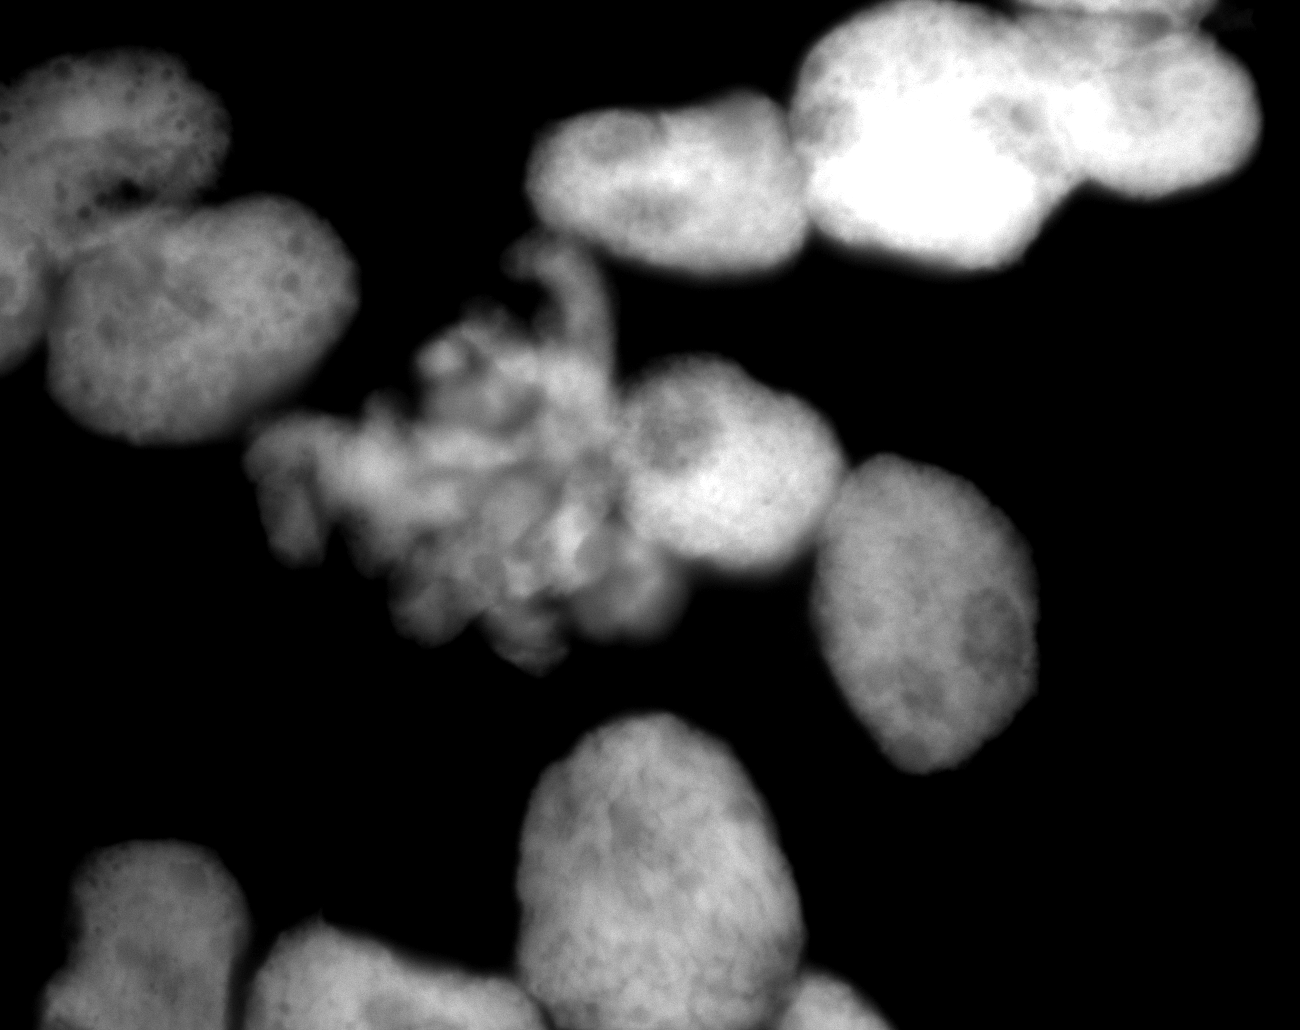Chromosomes: (238, 160, 696, 704)
Others: (788, 11, 1291, 257), (14, 115, 371, 450), (482, 690, 820, 1025), (805, 441, 1054, 796), (500, 90, 820, 290), (635, 329, 853, 605), (1052, 7, 1278, 201), (35, 825, 272, 1007), (15, 25, 233, 213), (242, 907, 483, 1027)
